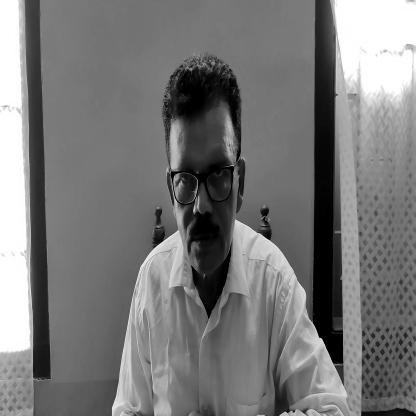Normal: (166, 60, 242, 272)
